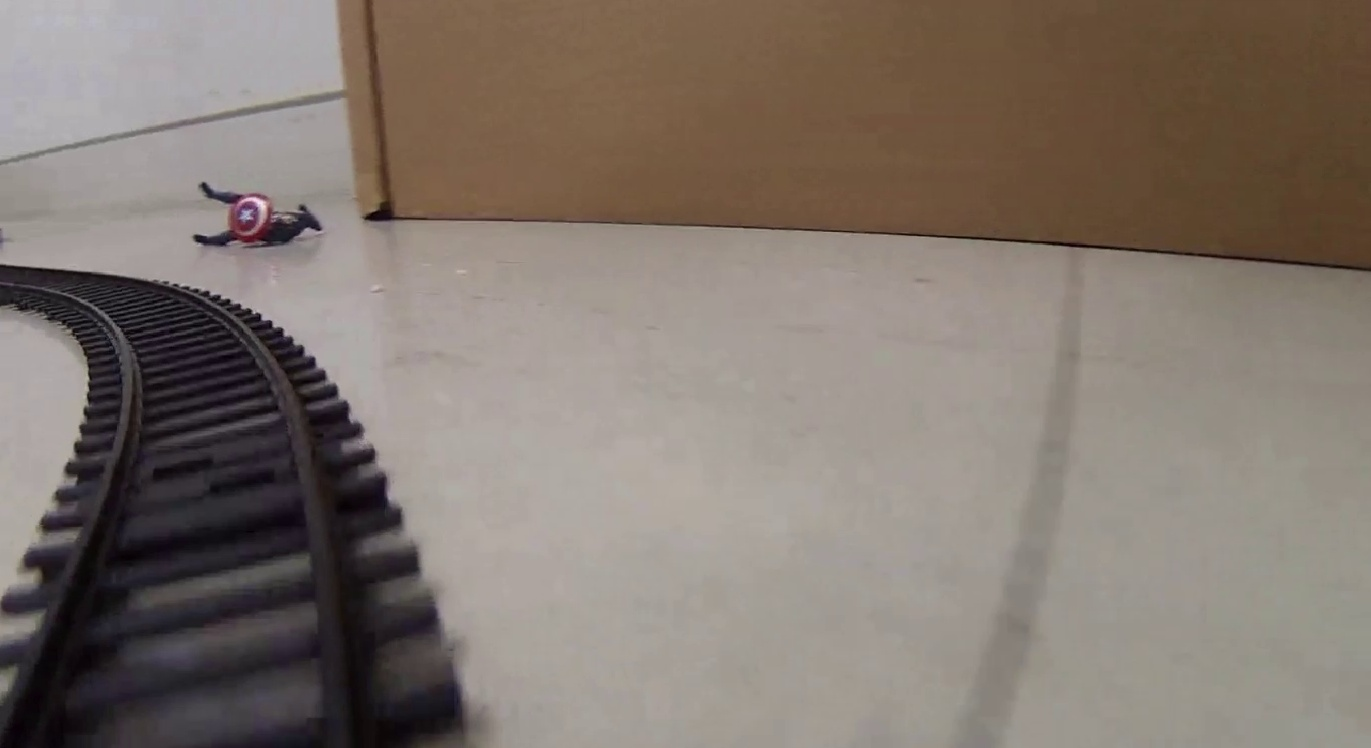people: (192, 178, 324, 251)
